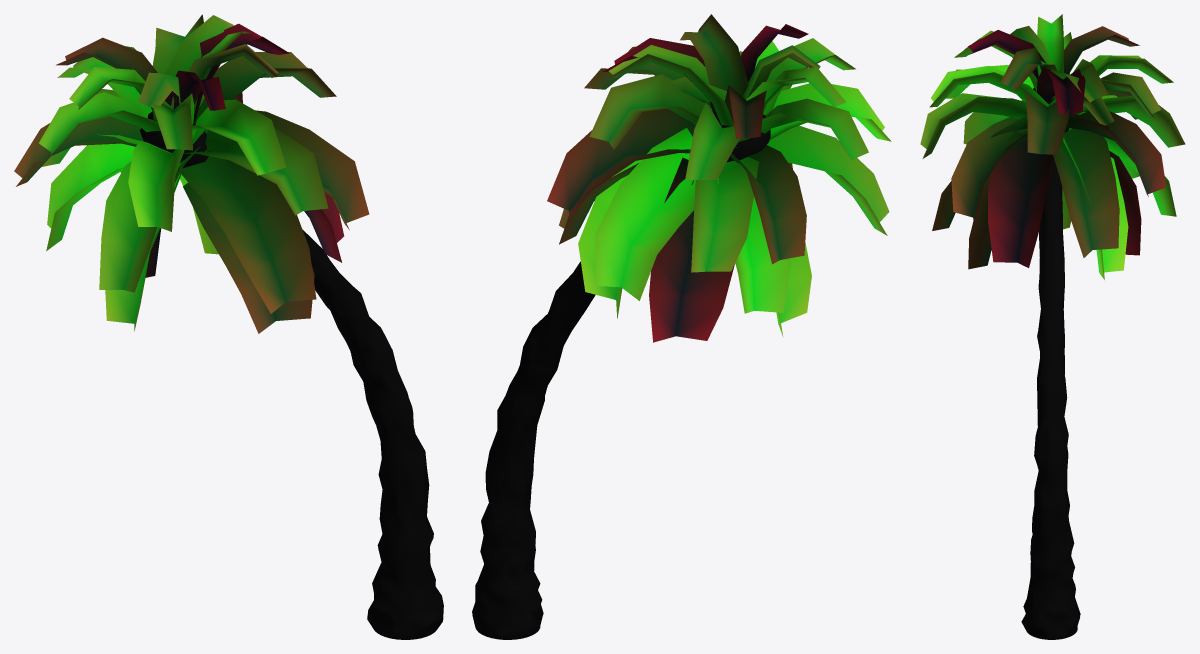
The model's file is SM_Palm5_7.fbx.
3 views of the same model, side by side, from view 1: azimuth 30°, elevation 25°; view 2: azimuth 150°, elevation 25°; view 3: azimuth 270°, elevation 25° (orthographic). The views are drawn at different scales.
Visible parts, largest first — view 1: SM_Palm5_7; view 2: SM_Palm5_7; view 3: SM_Palm5_7.
Part boxes in pixels (x1,y1,x2,y2): SM_Palm5_7: (14,14,443,639); SM_Palm5_7: (472,14,891,639); SM_Palm5_7: (920,14,1185,639).
Size of the model in its own units: 1182 by 1856 by 879.
